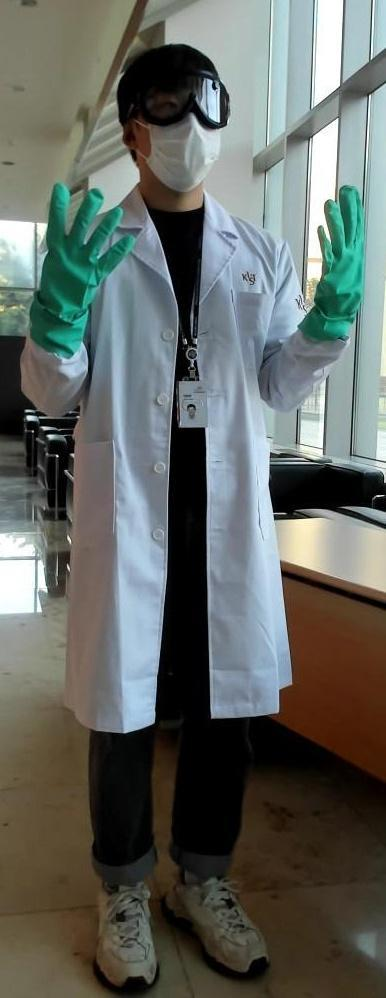lab_coat: (86, 250, 300, 718)
